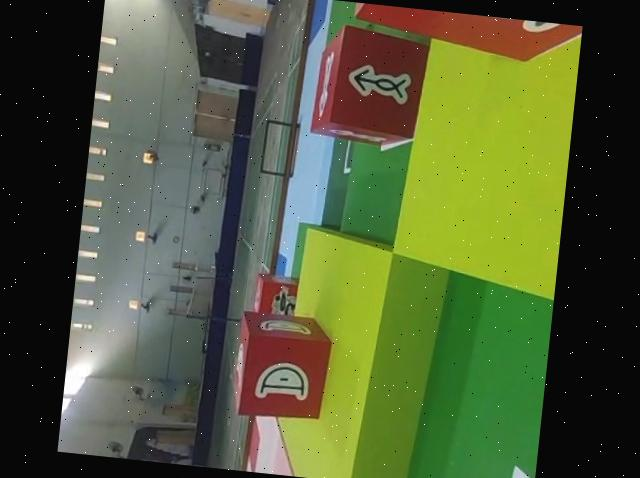R1: (249, 267, 308, 324)
R2 Fake: (343, 2, 583, 70)
R2 Real: (305, 21, 435, 152), (221, 306, 338, 427)
